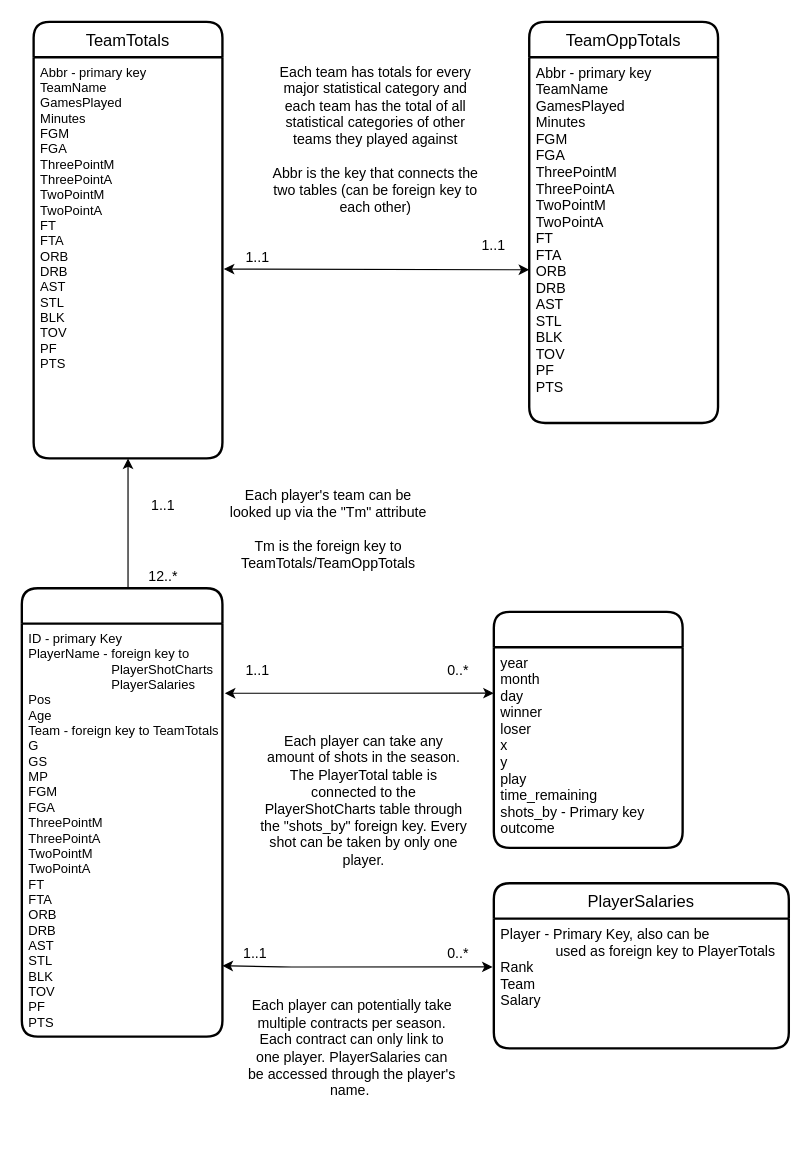
Some shapes in this 809 by 1151 pixel diagram are drawn without their labels. Here are the shapes that lost their labels. From the top down, the box of each, then its label:
(492, 610, 683, 848): PlayerShotCharts
(20, 586, 223, 1037): PlayerTotals
